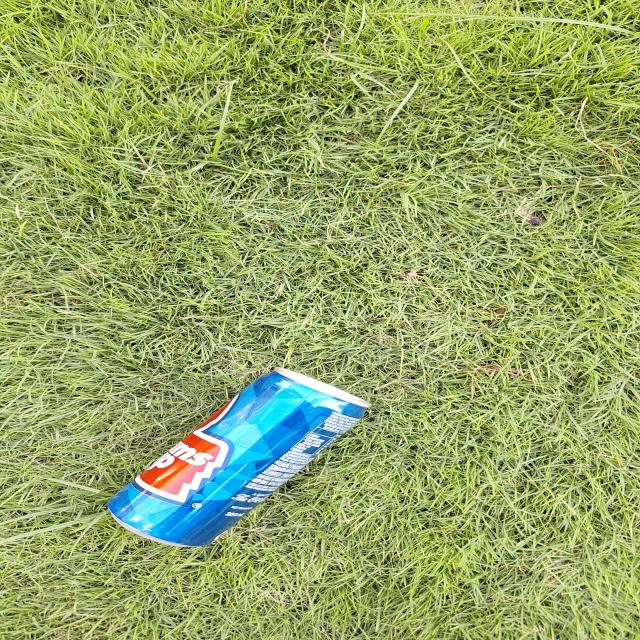Thums Up: (81, 368, 368, 550)
